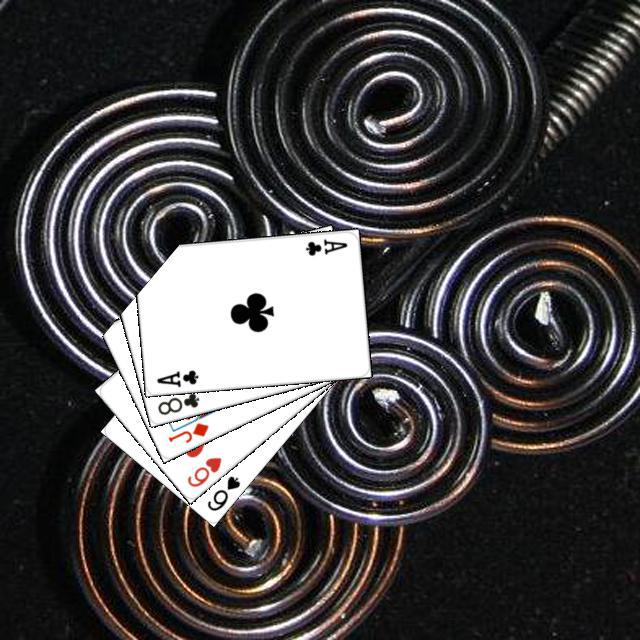6h: (182, 452, 223, 489)
6s: (202, 471, 242, 513)
8c: (153, 388, 201, 417)
Ac: (152, 365, 200, 389), (301, 234, 349, 257)
Jd: (163, 417, 211, 444)
